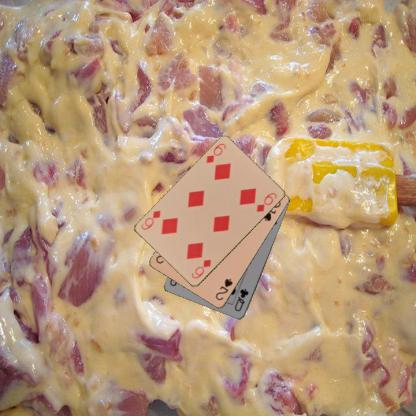2s: (213, 276, 234, 302)
6d: (203, 141, 227, 165), (189, 257, 212, 280)
Qc: (232, 286, 250, 313)
